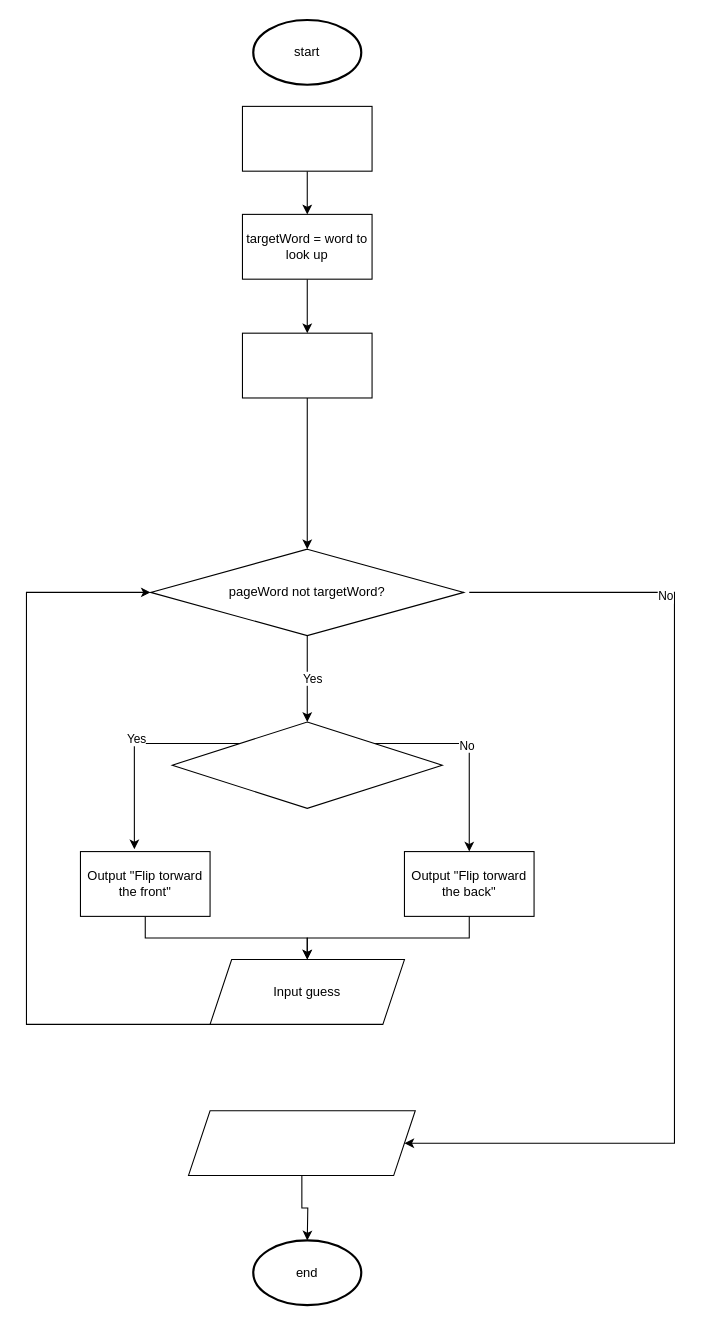
Image size: 702x1324. Some labels were removed from this diagram. Each missing label, with the centre of its shape:
Open dictionary to random page pageWord = a word on that page: pixel 306 365
Output "You found the word!": pixel 301 1143
pageWord comes after target Word?: pixel 306 764
Pick a word to look up: pixel 306 138
